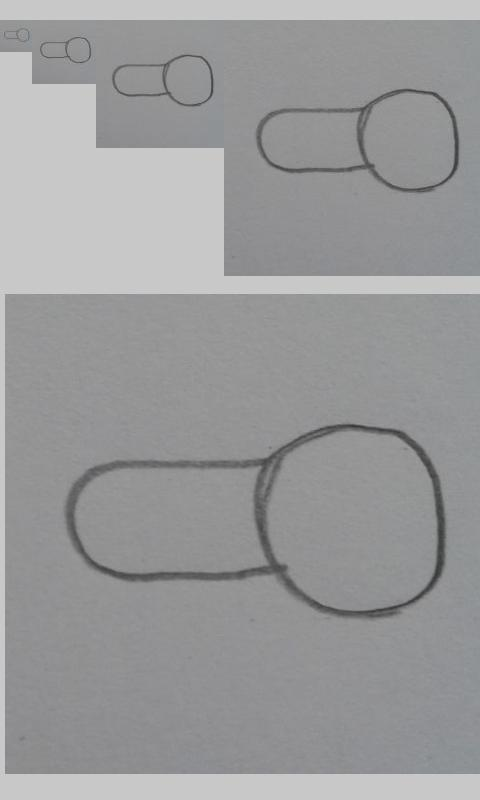switch: (63, 423, 448, 620), (256, 88, 461, 193), (112, 54, 214, 107), (39, 36, 92, 64), (3, 27, 30, 43)
